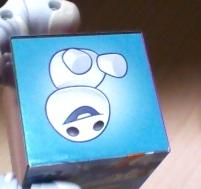Blue1: (11, 33, 169, 167)
